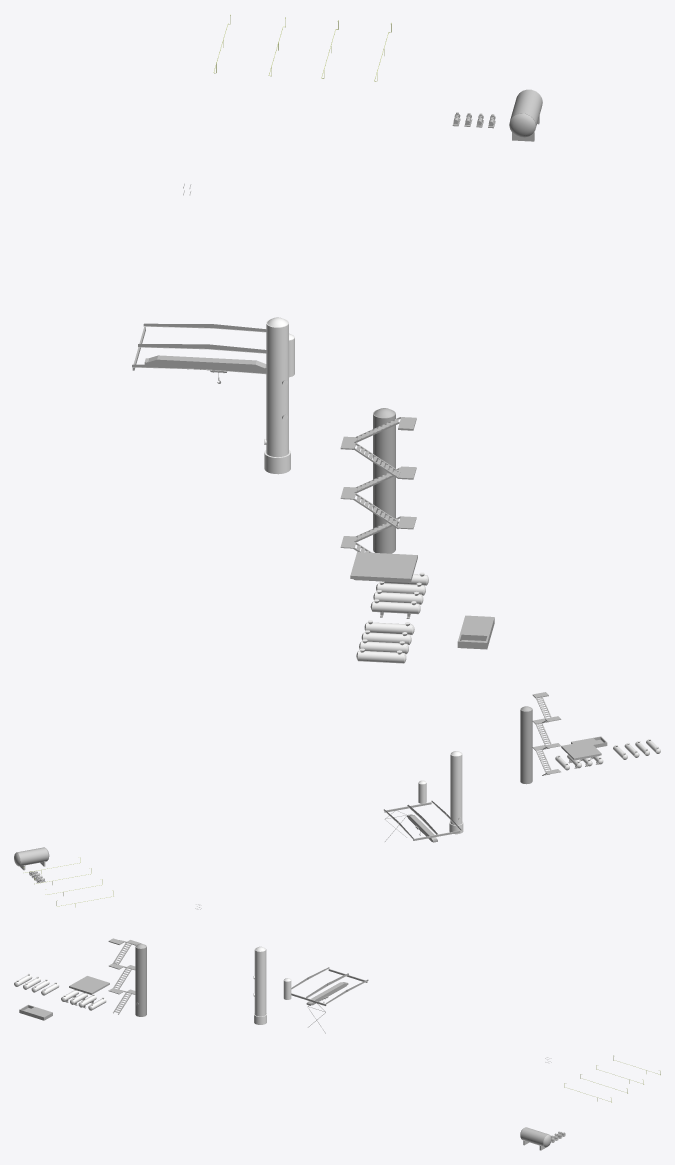
File: NoLod_5.glb
3 renders of one model, top to bottom at view 1: azimuth 30°, elevation 25°; view 2: azimuth 150°, elevation 25°; view 3: azimuth 270°, elevation 25°, orthographic. The views are drawn at different scales.
Visible parts, largest first — view 1: rtc; view 2: rtc; view 3: rtc.
Boxes of the visible parts, <box> form: rtc: <box>132,14,542,663</box>; rtc: <box>14,692,660,909</box>; rtc: <box>14,938,660,1150</box>.
Bounding box in the file's own units: 89.75 × 18.96 × 144.
